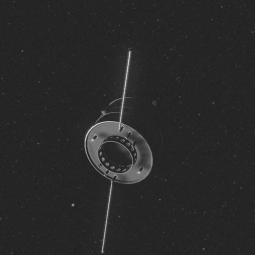double_start: (79, 85, 167, 191)
